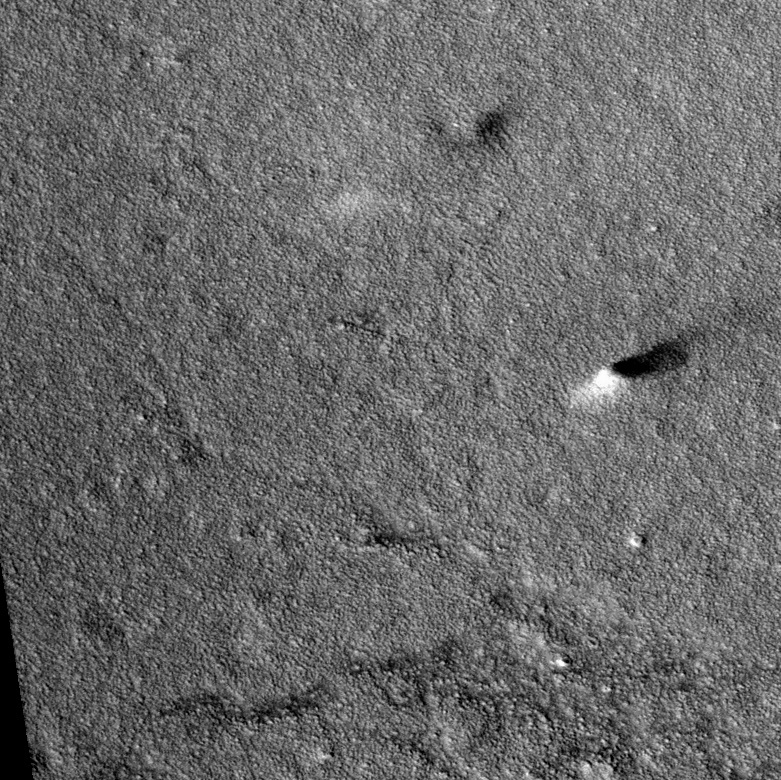dust_devil: (323, 107, 517, 221), (568, 323, 713, 410)
